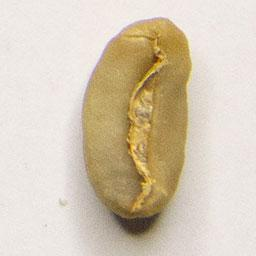longberry: (78, 13, 194, 222)
